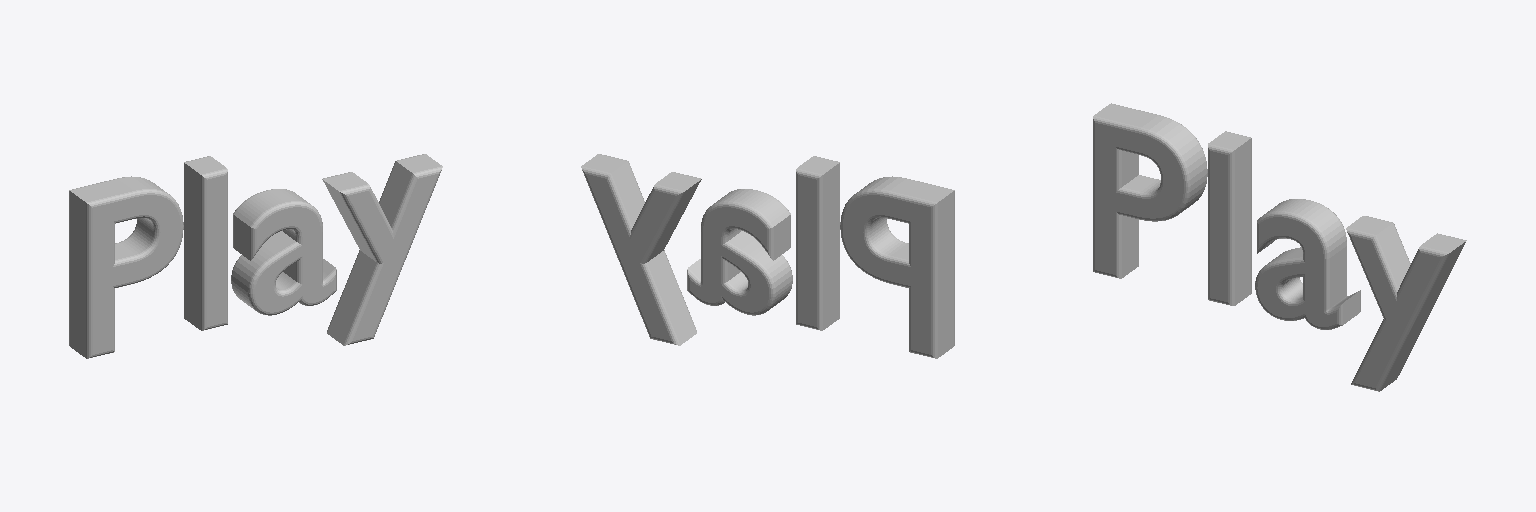
File: menu-play.obj
3 renders of one model, left to right at view 1: azimuth 30°, elevation 25°; view 2: azimuth 150°, elevation 25°; view 3: azimuth 330°, elevation 25°, orthographic.
Visible parts, largest first — view 1: Play_Text.012; view 2: Play_Text.012; view 3: Play_Text.012.
Part boxes in pixels (left/top/right/bottom): Play_Text.012: left=69, top=154, right=442, bottom=358; Play_Text.012: left=581, top=154, right=954, bottom=358; Play_Text.012: left=1093, top=103, right=1466, bottom=391.
Bounding box in the file's own units: 1.74 × 0.9611 × 0.18.